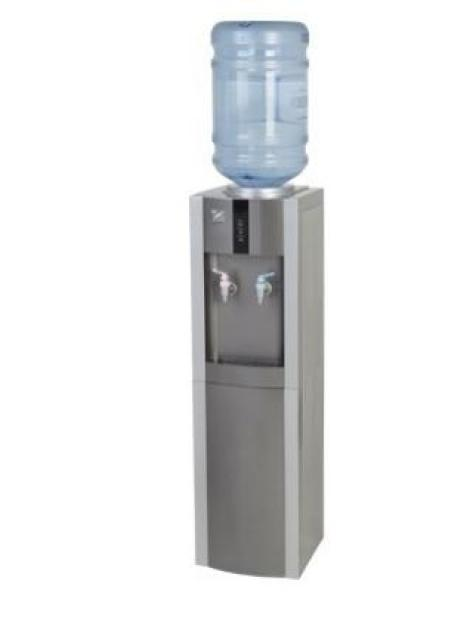Dispenser: (187, 19, 324, 579)
